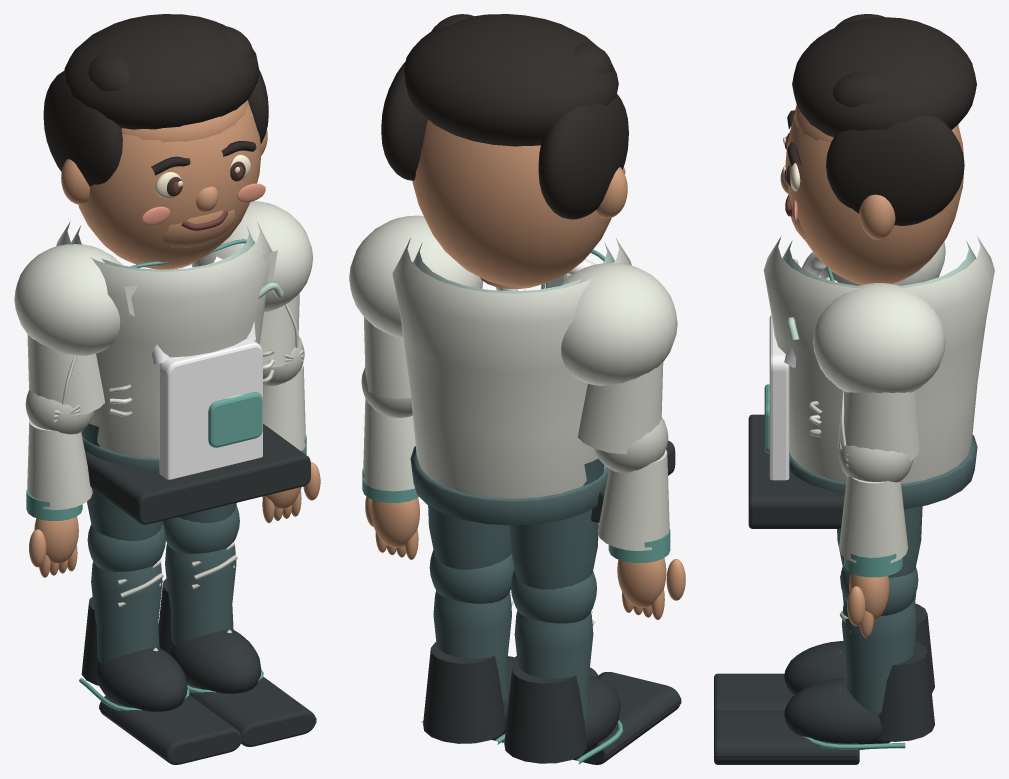
Rendered from noah.glb.
3 renders of one model, left to right at view 1: azimuth 30°, elevation 25°; view 2: azimuth 150°, elevation 25°; view 3: azimuth 270°, elevation 25°, orthographic. The views are drawn at different scales.
Visible parts, largest first — view 1: Tailored coat, Hair cap, Face, Apron panel, Tool belt, Shoulder -1, Sole -1, Trousers calf 1, Trousers calf -1, Side hair -1, Shoulder 1, Sole 1 (+26 smaller); view 2: Tailored coat, Hair cap, Face, Shoulder -1, Side hair -1, Shoulder 1, Boot shaft -1, Boot shaft 1, Trousers thigh -1, Trouser waistband, Sleeve forearm -1, Sleeve upper -1 (+20 smaller); view 3: Tailored coat, Hair cap, Shoulder 1, Side hair 1, Face, Tool belt, Sole 1, Trousers calf 1, Sleeve forearm 1, Leather toe 1, Sleeve upper 1, Boot shaft 1 (+17 smaller).
Boxes of the visible parts, bbox=[...] form: Tailored coat: bbox=[56, 221, 272, 458]; Hair cap: bbox=[64, 14, 259, 129]; Face: bbox=[78, 103, 261, 268]; Apron panel: bbox=[159, 338, 262, 479]; Tool belt: bbox=[85, 423, 310, 524]; Shoulder -1: bbox=[14, 244, 121, 355]; Sole -1: bbox=[99, 695, 242, 764]; Trousers calf 1: bbox=[165, 543, 236, 644]; Trousers calf -1: bbox=[91, 561, 162, 662]; Side hair -1: bbox=[43, 71, 122, 186]; Shoulder 1: bbox=[191, 201, 312, 312]; Sole 1: bbox=[186, 677, 316, 746]; Tailored coat: bbox=[392, 238, 631, 498]; Hair cap: bbox=[404, 14, 618, 146]; Face: bbox=[412, 119, 611, 286]; Shoulder -1: bbox=[559, 263, 677, 385]; Side hair -1: bbox=[538, 94, 628, 219]; Shoulder 1: bbox=[349, 215, 483, 337]; Boot shaft -1: bbox=[504, 662, 586, 763]; Boot shaft 1: bbox=[423, 642, 505, 743]; Trousers thigh -1: bbox=[509, 458, 604, 589]; Trouser waistband: bbox=[410, 446, 609, 525]; Sleeve forearm -1: bbox=[597, 449, 669, 550]; Sleeve upper -1: bbox=[578, 362, 663, 454]; Tailored coat: bbox=[763, 236, 994, 483]; Hair cap: bbox=[792, 17, 976, 137]; Shoulder 1: bbox=[813, 283, 945, 393]; Side hair 1: bbox=[826, 116, 964, 225]; Face: bbox=[785, 113, 964, 284]; Tool belt: bbox=[748, 414, 844, 528]; Sole 1: bbox=[714, 711, 859, 764]; Trousers calf 1: bbox=[841, 600, 916, 715]; Sleeve forearm 1: bbox=[839, 476, 908, 563]; Leather toe 1: bbox=[784, 678, 890, 749]; Sleeve upper 1: bbox=[837, 390, 921, 461]; Boot shaft 1: bbox=[877, 641, 934, 741].
Size of the model in its own units: 1.24 by 2.72 by 0.9914.
